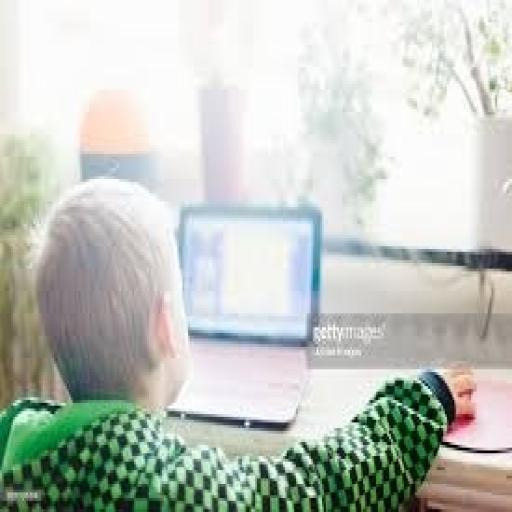using_laptop: (164, 196, 322, 428)
